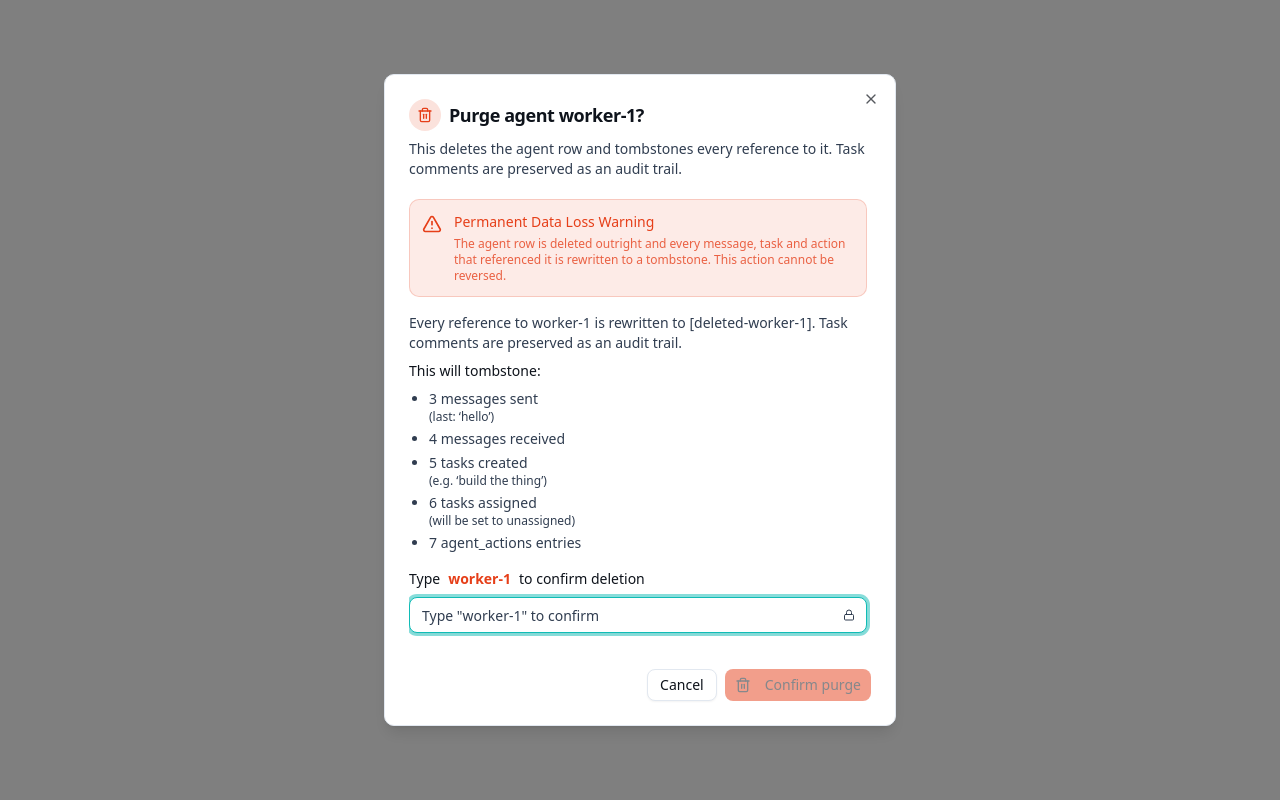
it: <PurgeAgentDialog> › keeps the confirm button disarmed until the agent id is typed
The image size is (1280, 800).
Expected: the button "Confirm purge" is disabled, [725,669,871,701]
Type "worker-1" into the field labelled "Type worker-1 to confirm deletion" at {"x": 638, "y": 615}, box [409,597,867,633]
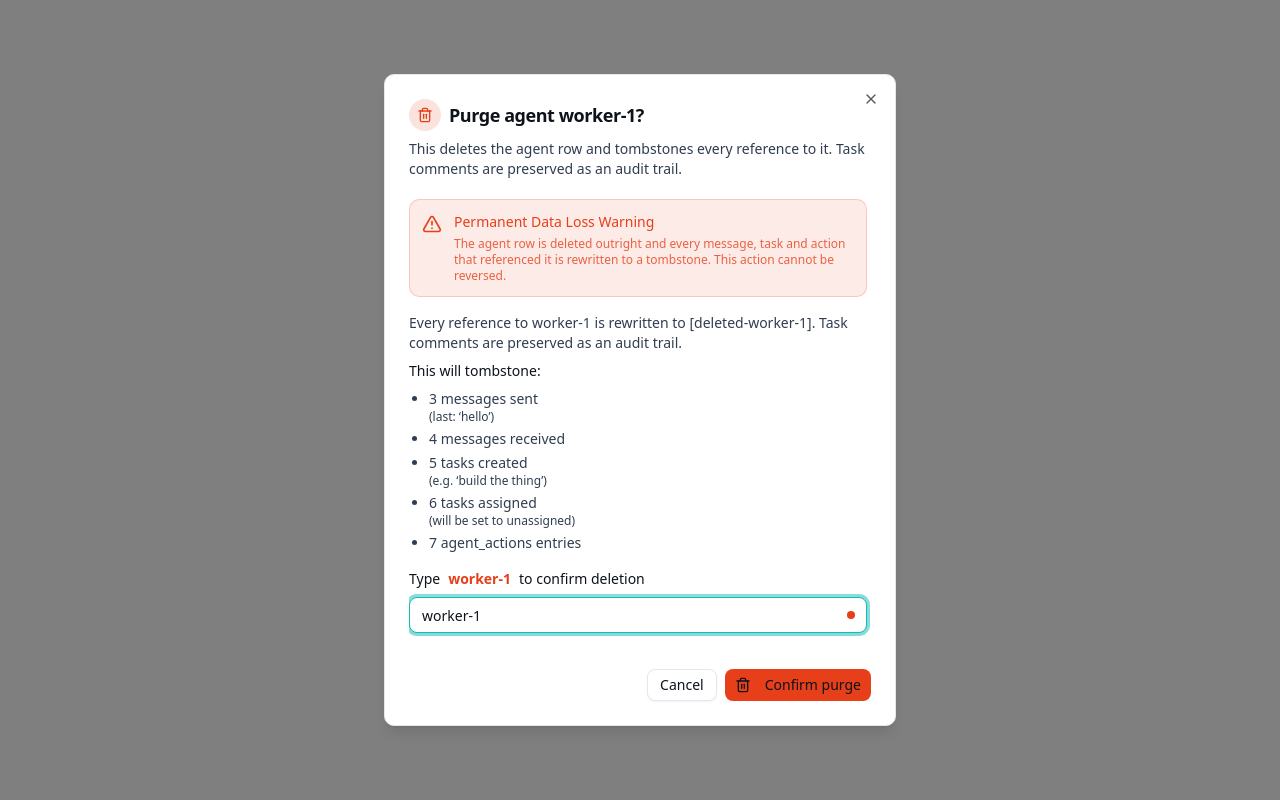
Now the button "Confirm purge" is enabled, box [725,669,871,701]
